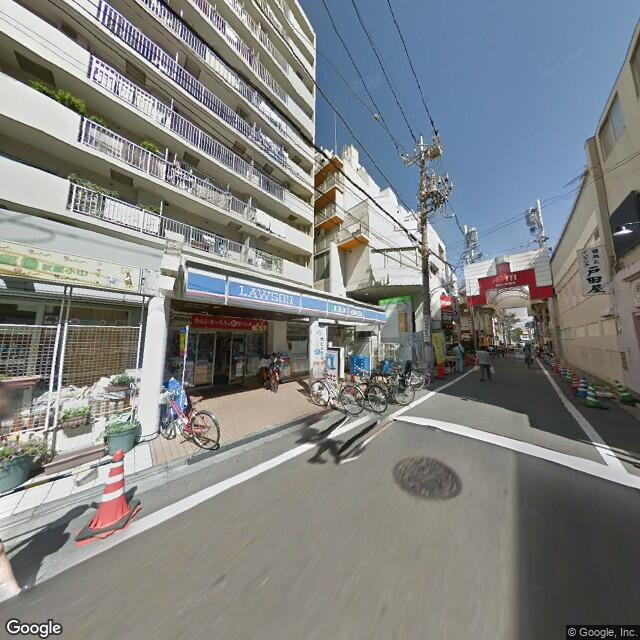lawson: (184, 265, 388, 325)
